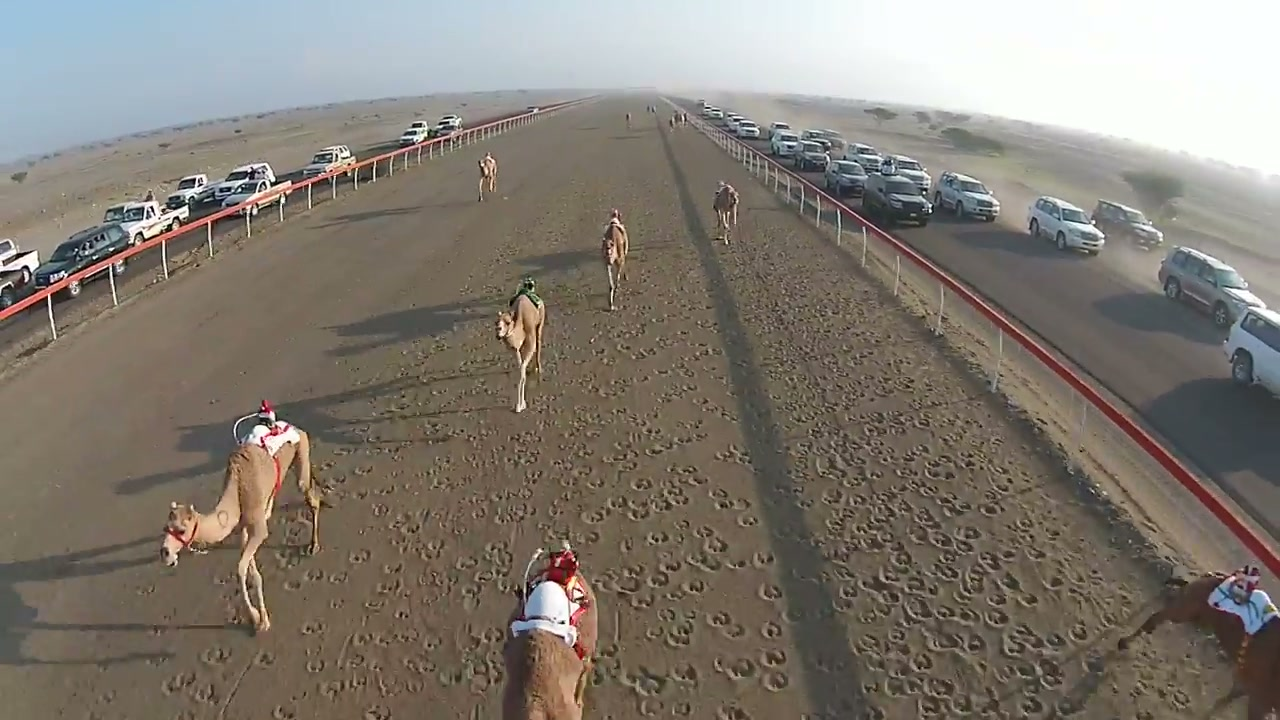animal_footprint: (23, 122, 1228, 719)
